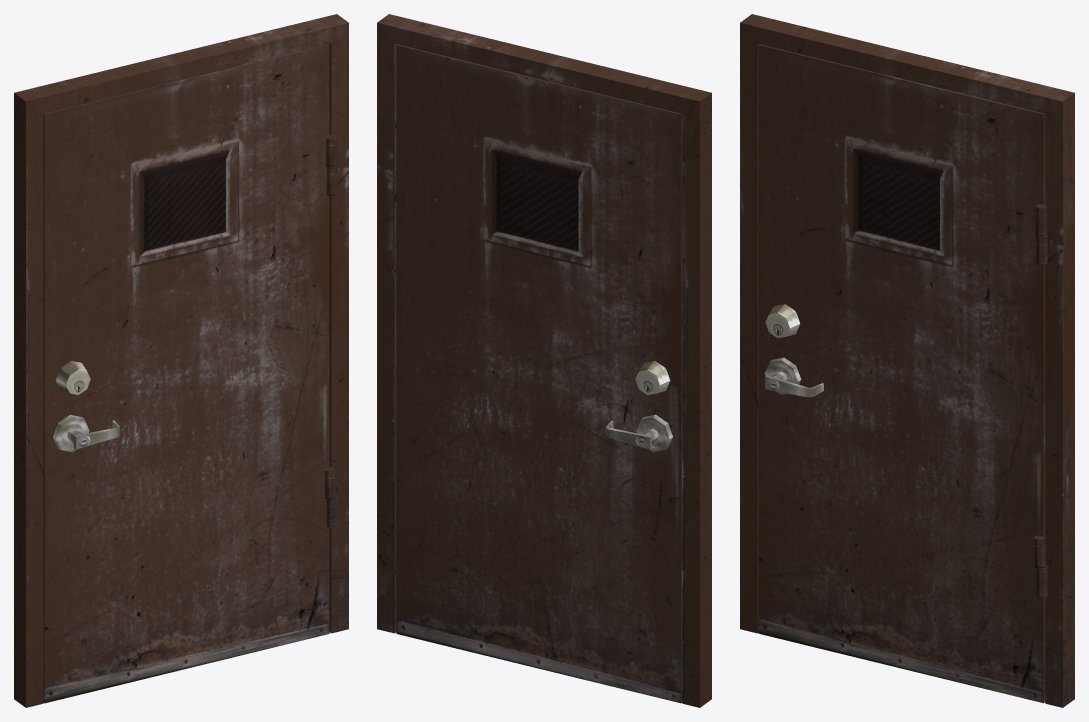
The model's file is Door_18_Blue.fbx.
3 views of the same model, side by side, from view 1: azimuth 30°, elevation 25°; view 2: azimuth 150°, elevation 25°; view 3: azimuth 330°, elevation 25° (orthographic).
Parts seen in each view (by area): view 1: door01, door_frame; view 2: door01, door_frame; view 3: door01, door_frame.
Part boxes in pixels (box(x1,y1,x2,y2)): door01: box(43, 44, 329, 703); door_frame: box(14, 14, 348, 707); door01: box(396, 44, 682, 703); door_frame: box(377, 14, 711, 707); door01: box(758, 44, 1045, 703); door_frame: box(740, 14, 1074, 707).
Bounding box in the file's own units: 116 × 208 × 22.95.
